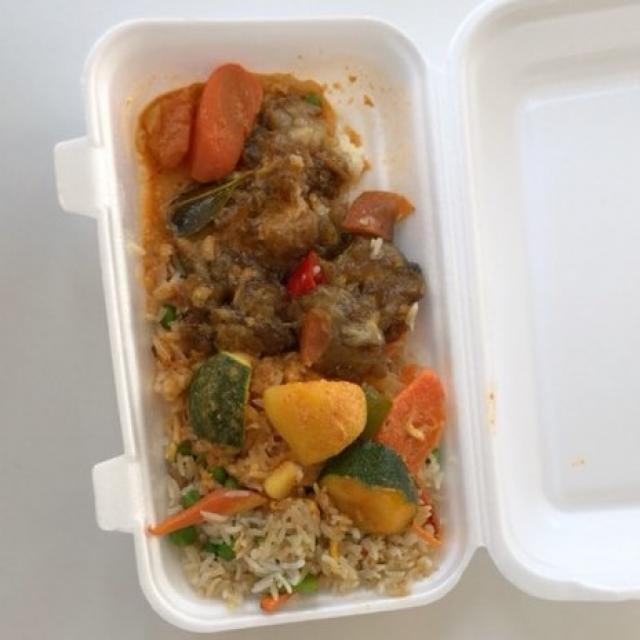fried-rice: (177, 371, 449, 605)
mixed-vegetables: (115, 53, 424, 530)
